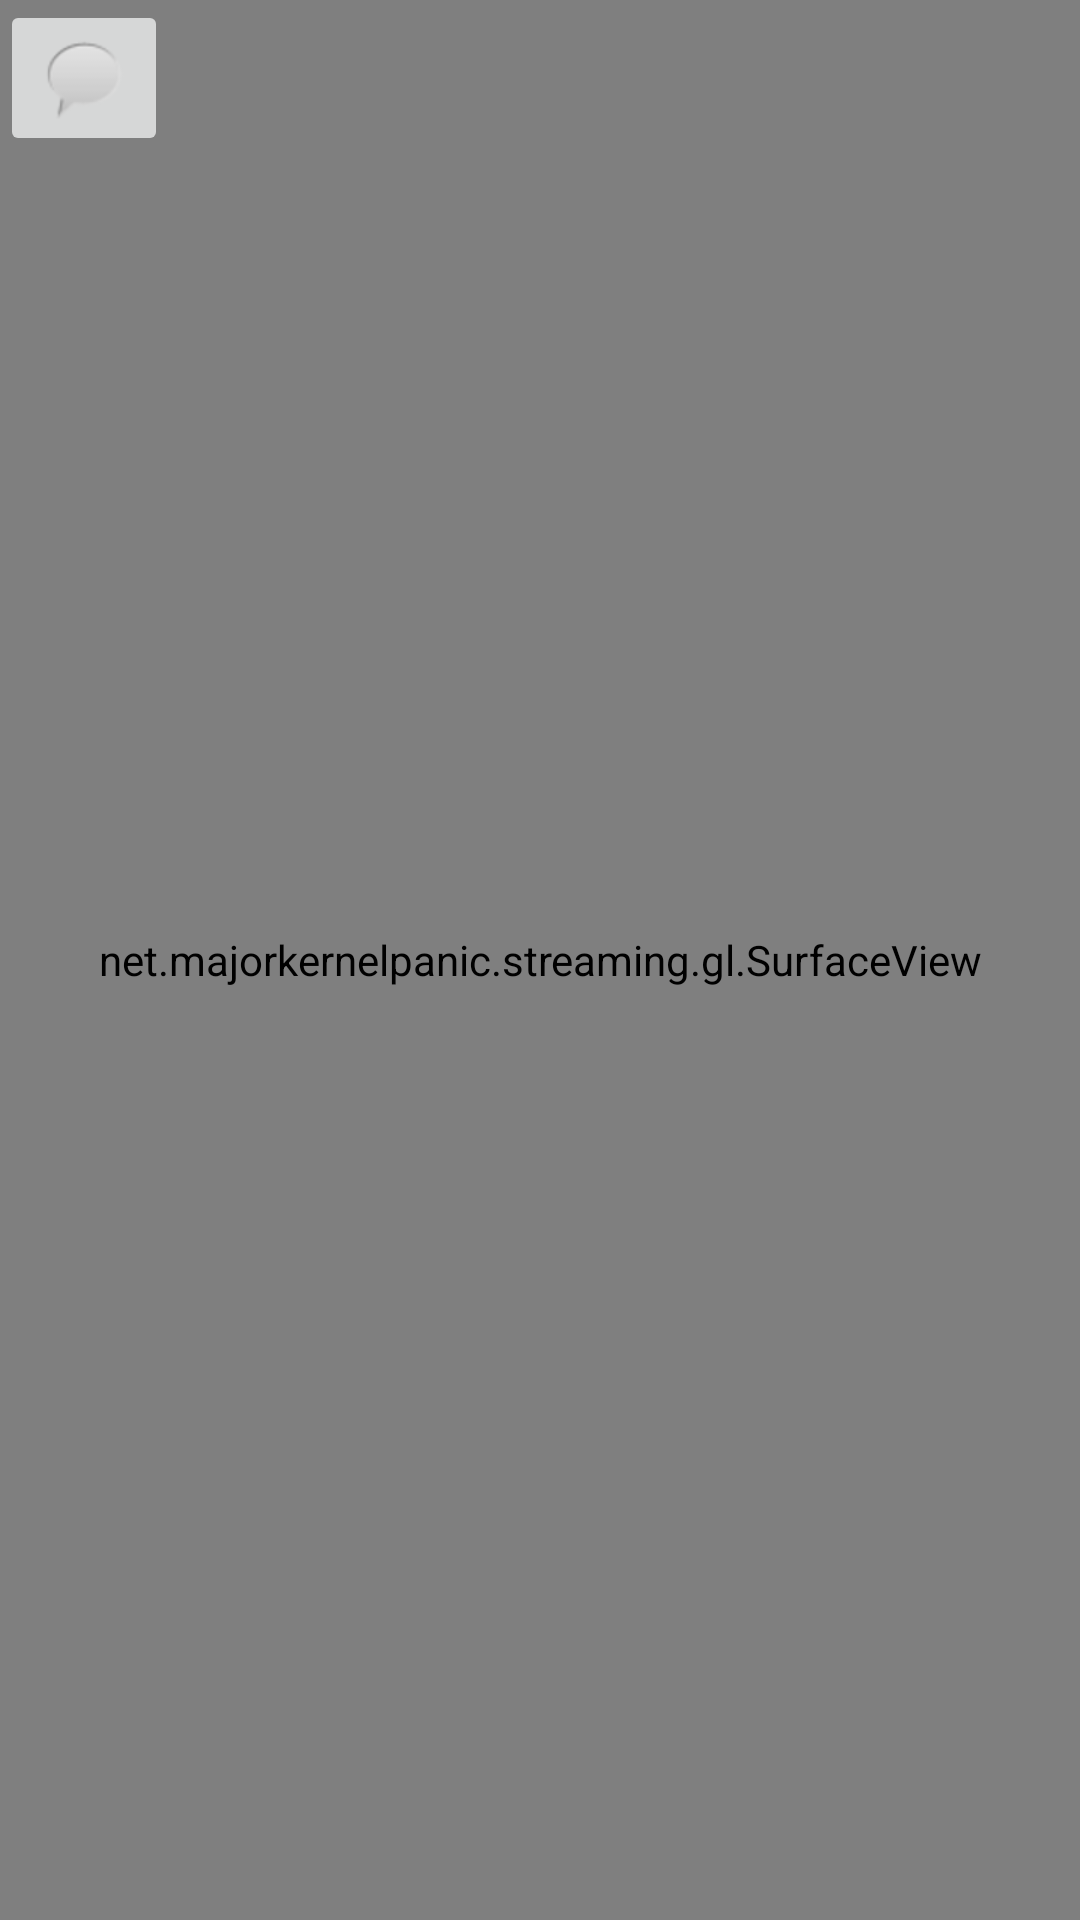

Icons on this 1080px×1920px Android screen, each with the point to tap as (x=x, y=y):
sym action chat: (x=84, y=78)
